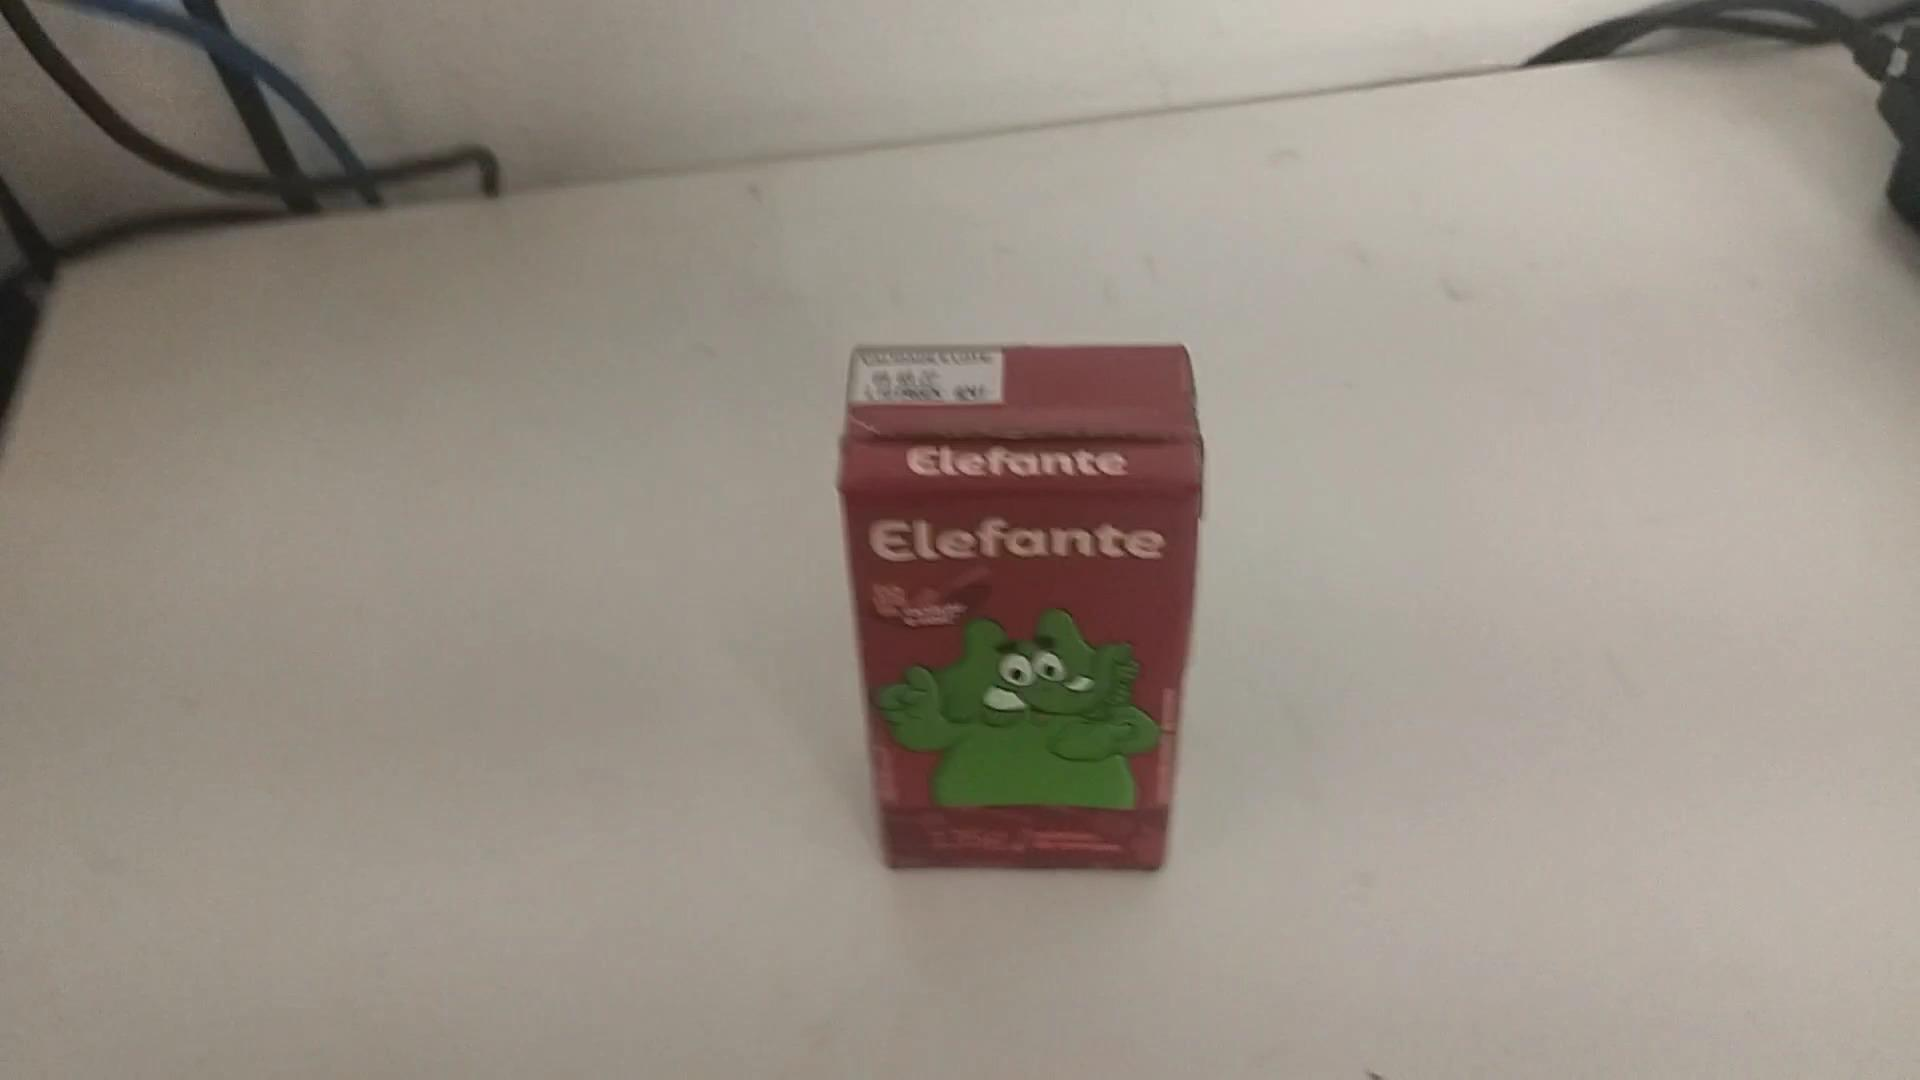tomate: (827, 332, 1212, 873)
